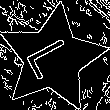L_NE: (23, 33, 82, 84)
